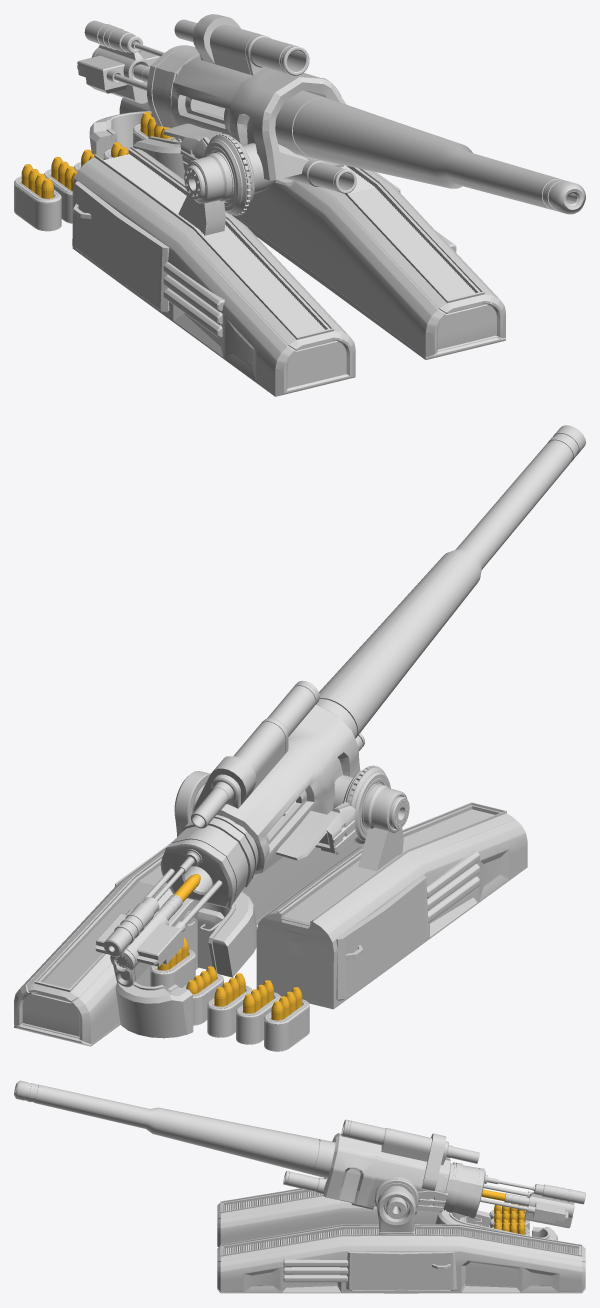
The model's file is mortar.fbx.
3 renders of one model, top to bottom at view 1: azimuth 30°, elevation 25°; view 2: azimuth 150°, elevation 25°; view 3: azimuth 270°, elevation 25°, orthographic. The views are drawn at different scales.
Visible parts, largest first — view 1: polySurface345, polySurface343, polySurface342, polySurface311, polySurface34, polySurface287, polySurface268, polySurface337, polySurface37, Ammo, polySurface38, polySurface274; view 2: polySurface345, polySurface343, polySurface342, polySurface268, polySurface311, polySurface34, polySurface287, polySurface37, polySurface337, Ammo, polySurface273, polySurface30; view 3: polySurface345, polySurface343, polySurface342, polySurface34, polySurface287, polySurface37, polySurface273, polySurface276, polySurface268, Ammo, polySurface38, polySurface274.
Part boxes in pixels (x1,y1,x2,y2): polySurface345: (72, 97, 505, 396); polySurface343: (275, 90, 585, 214); polySurface342: (171, 55, 346, 180); polySurface311: (163, 123, 276, 235); polySurface34: (174, 14, 309, 75); polySurface287: (77, 20, 164, 103); polySurface268: (89, 111, 185, 179); polySurface337: (14, 124, 177, 231); polySurface37: (147, 45, 225, 127); Ammo: (21, 112, 172, 198); polySurface38: (275, 158, 356, 193); polySurface274: (184, 165, 205, 200); polySurface345: (14, 802, 527, 1046); polySurface343: (316, 425, 585, 738); polySurface342: (216, 704, 360, 874); polySurface268: (115, 891, 256, 1038); polySurface311: (276, 765, 407, 871); polySurface34: (191, 680, 319, 828); polySurface287: (95, 868, 222, 987); polySurface37: (160, 815, 261, 908); polySurface337: (150, 949, 309, 1051); Ammo: (157, 874, 302, 1020); polySurface273: (174, 771, 210, 836); polySurface30: (181, 908, 224, 969); polySurface345: (217, 1188, 585, 1293); polySurface343: (14, 1080, 335, 1178); polySurface342: (323, 1133, 450, 1206); polySurface34: (341, 1119, 479, 1190); polySurface287: (480, 1180, 585, 1228); polySurface37: (442, 1162, 485, 1218); polySurface273: (377, 1188, 415, 1234); polySurface276: (374, 1177, 447, 1214); polySurface268: (435, 1209, 558, 1240); Ammo: (481, 1189, 524, 1234); polySurface38: (283, 1171, 417, 1214); polySurface274: (386, 1197, 406, 1218).
Bounding box in the file's own units: 20.16 × 23.23 × 65.95.
